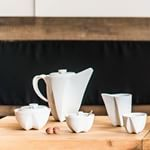cups: (11, 101, 54, 132), (64, 111, 96, 134)
